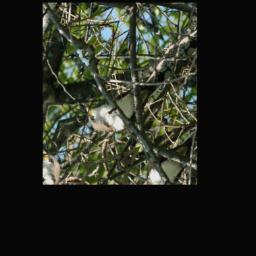Cuckoo: (79, 35, 182, 152)
